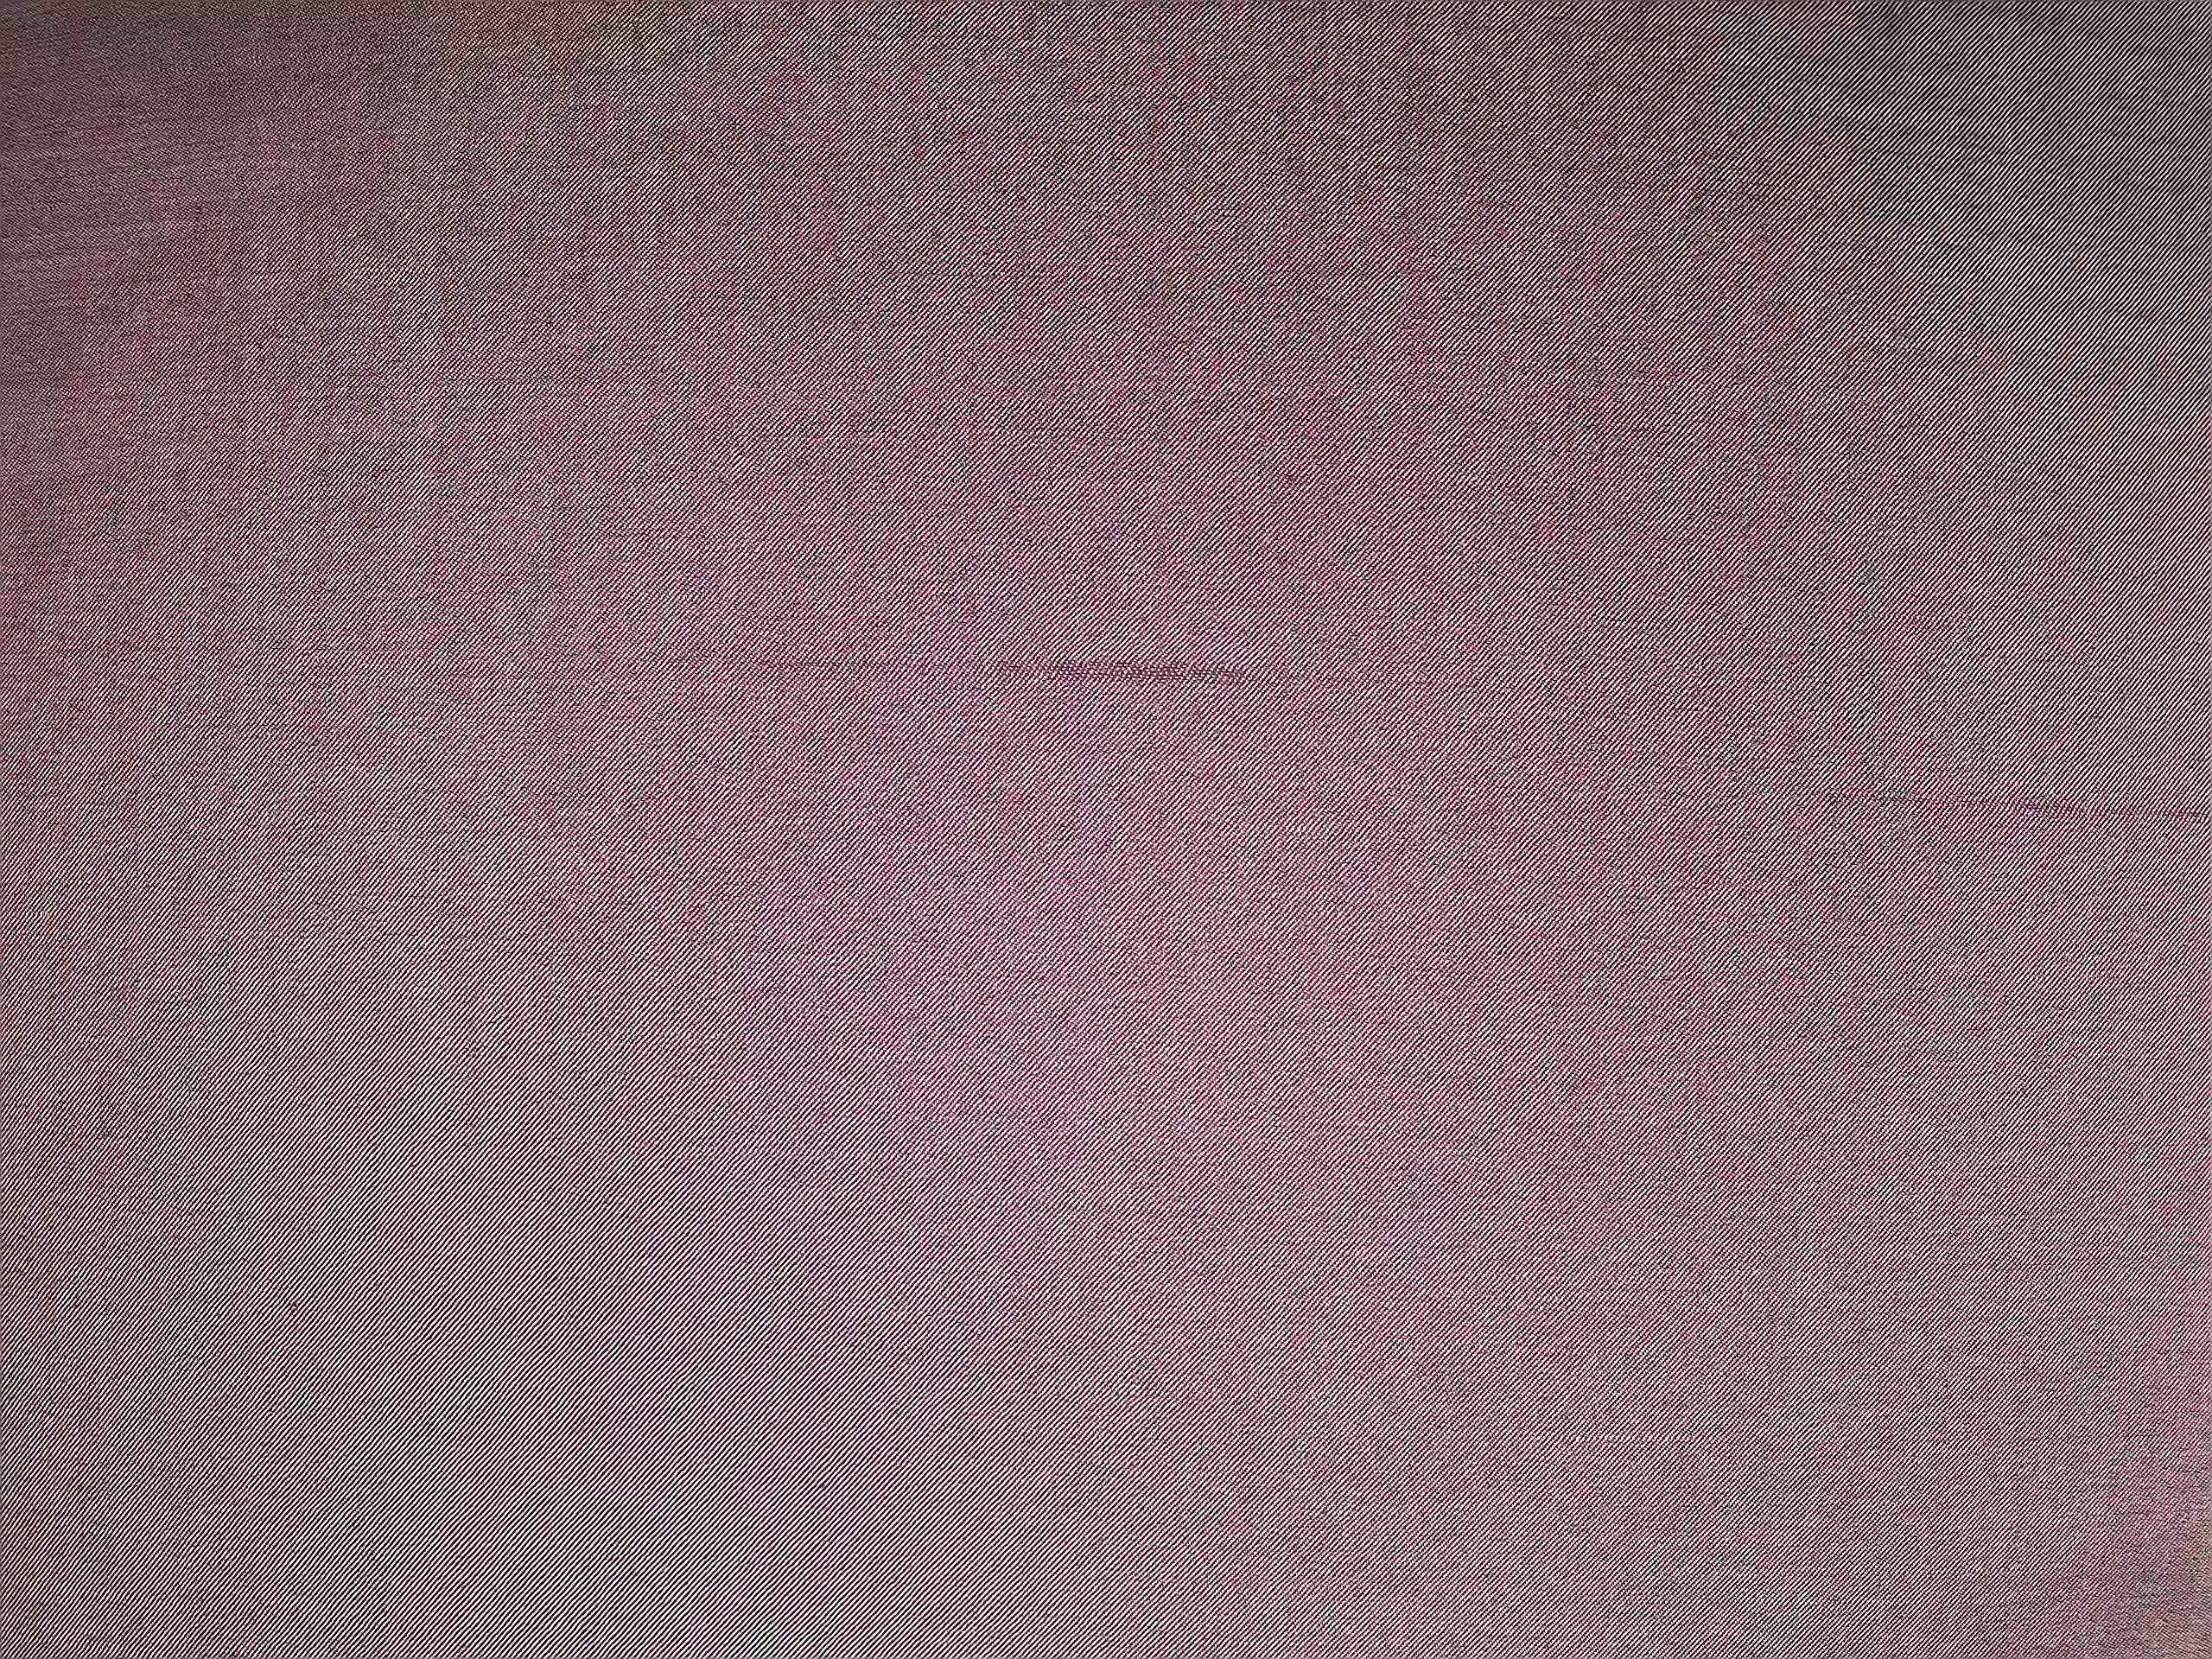thin-spinning: (749, 633, 1289, 711), (1839, 767, 2207, 852)
